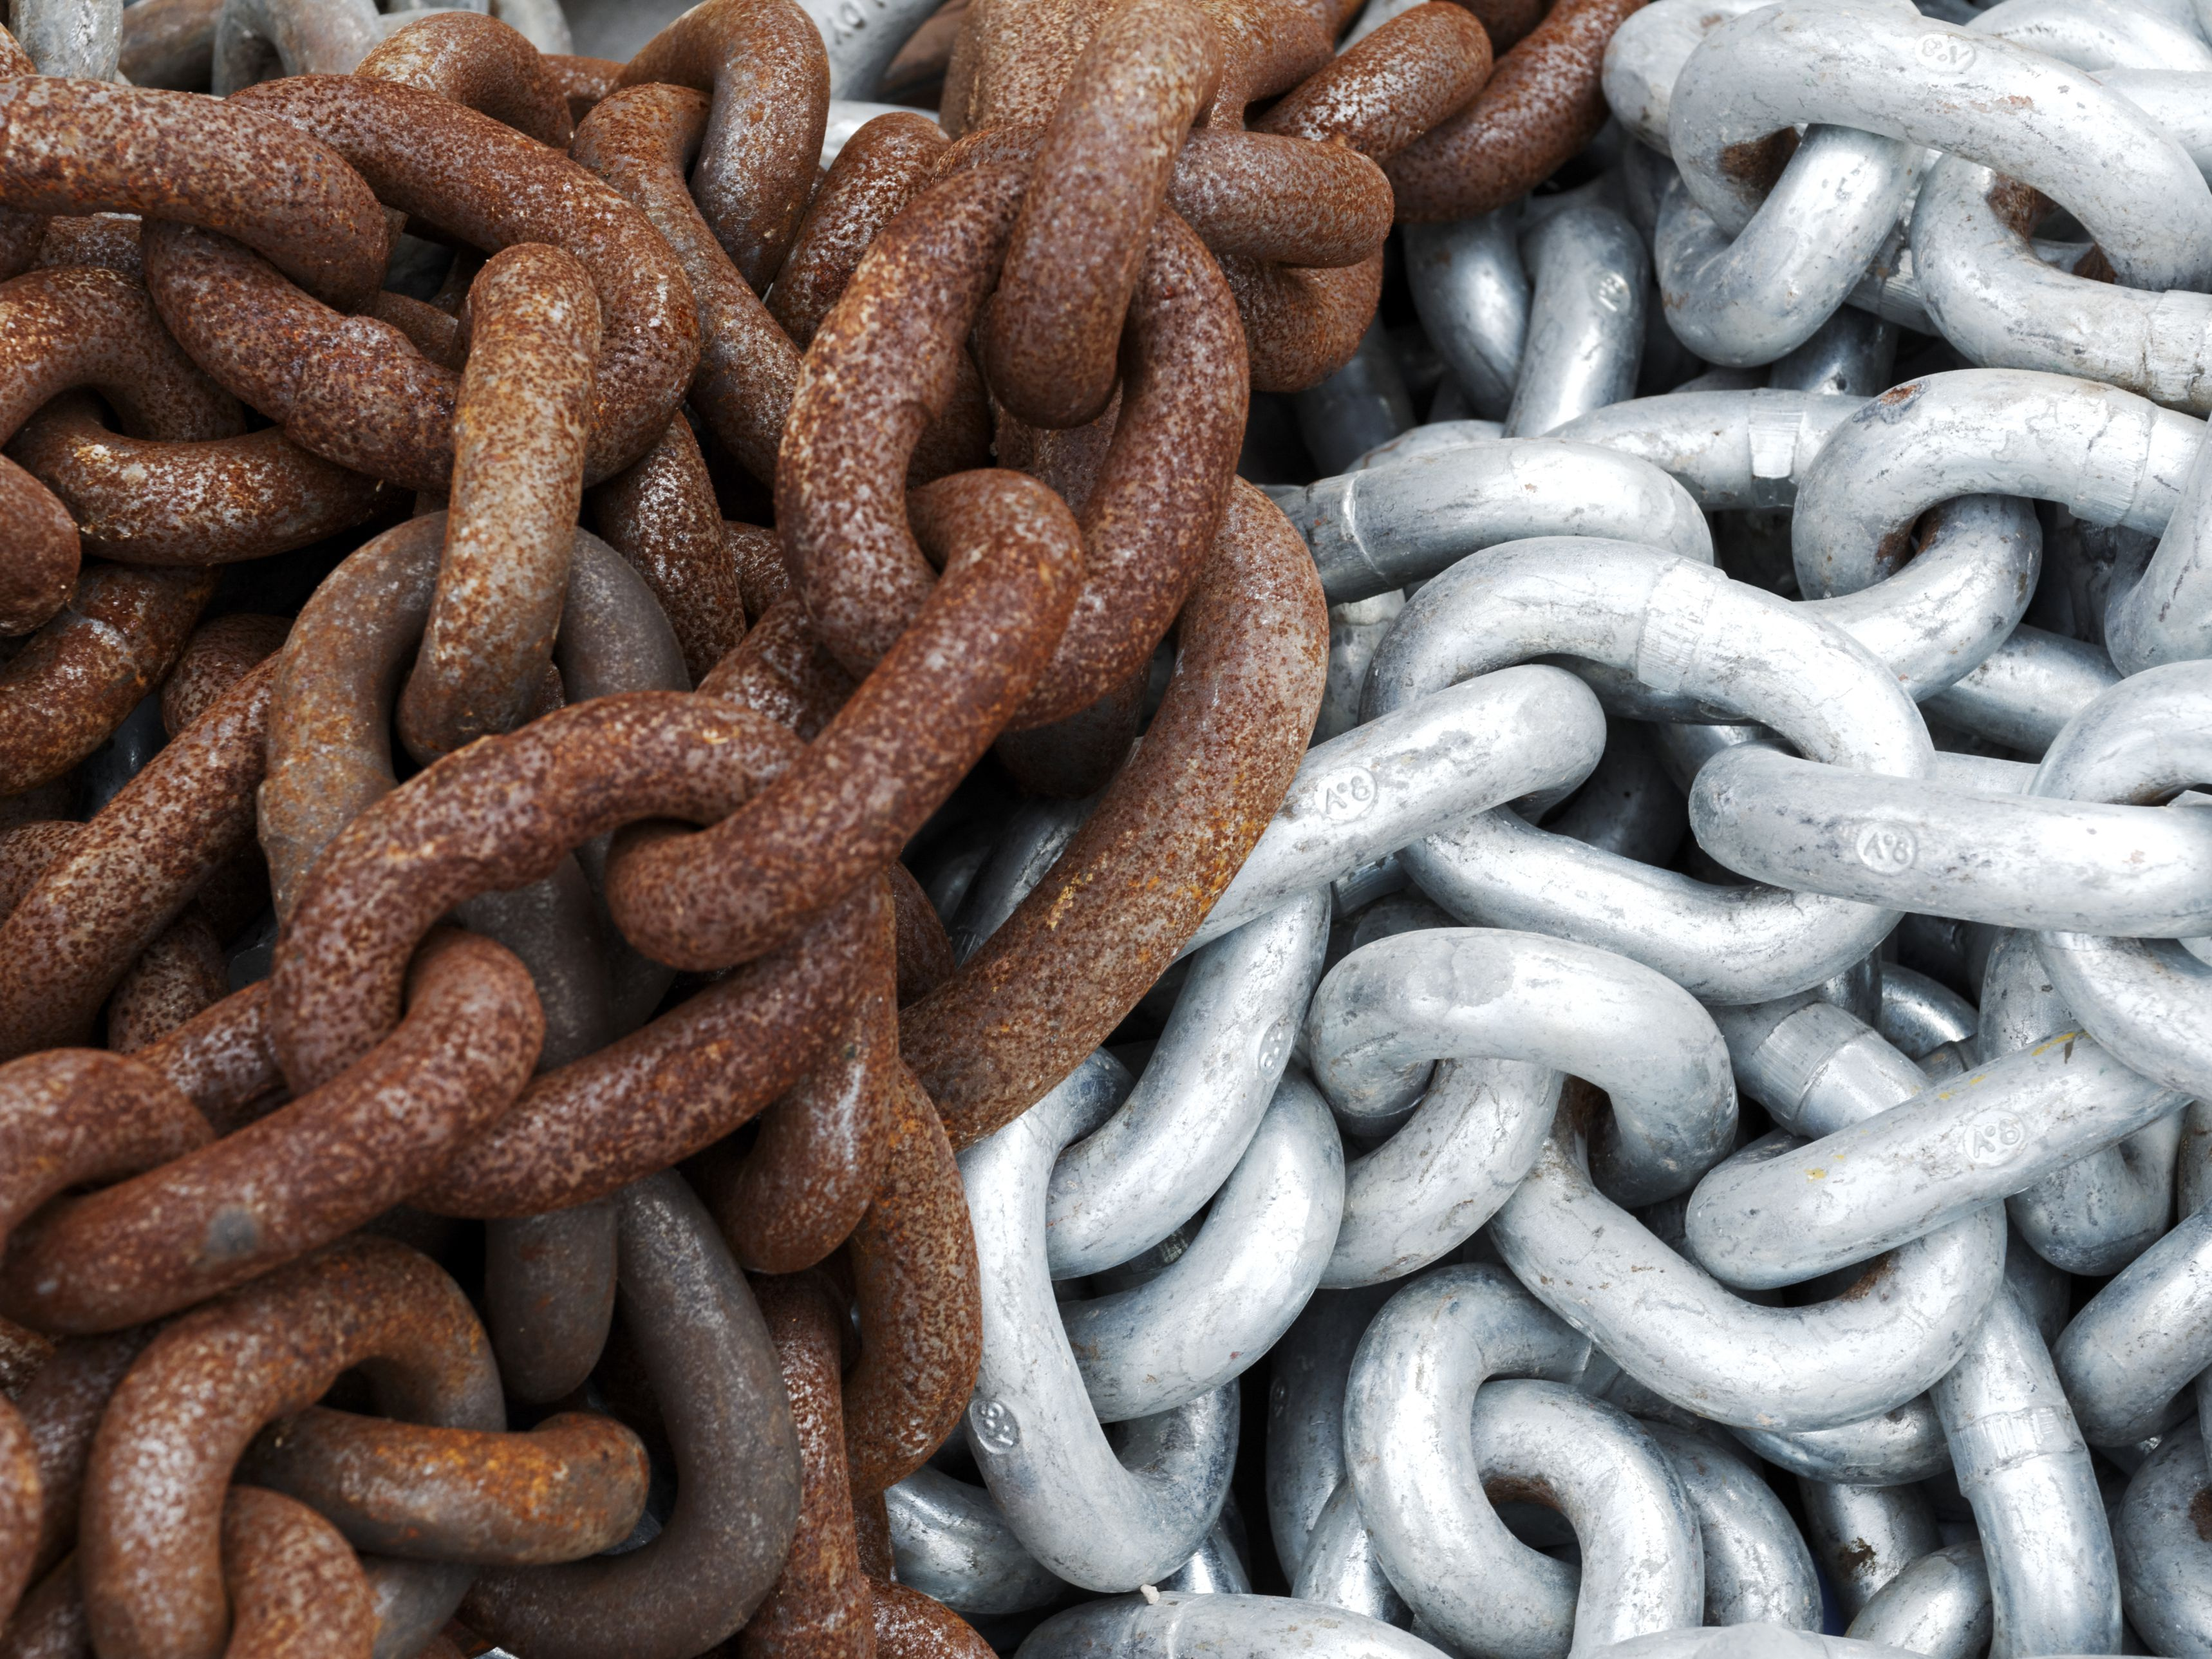rust: (73, 85, 951, 1643)
